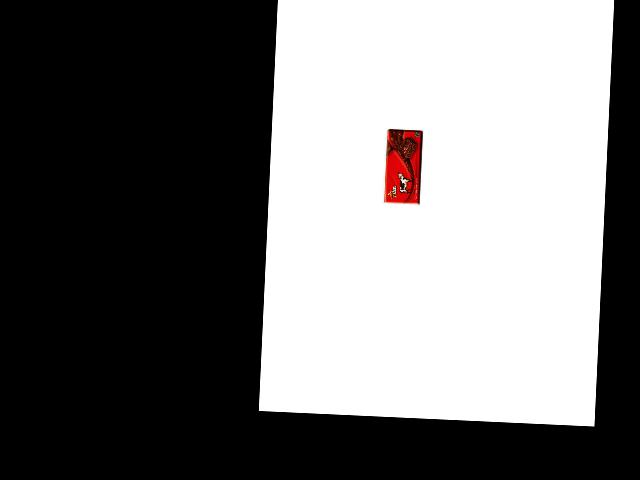chocolate: (382, 127, 426, 207)
